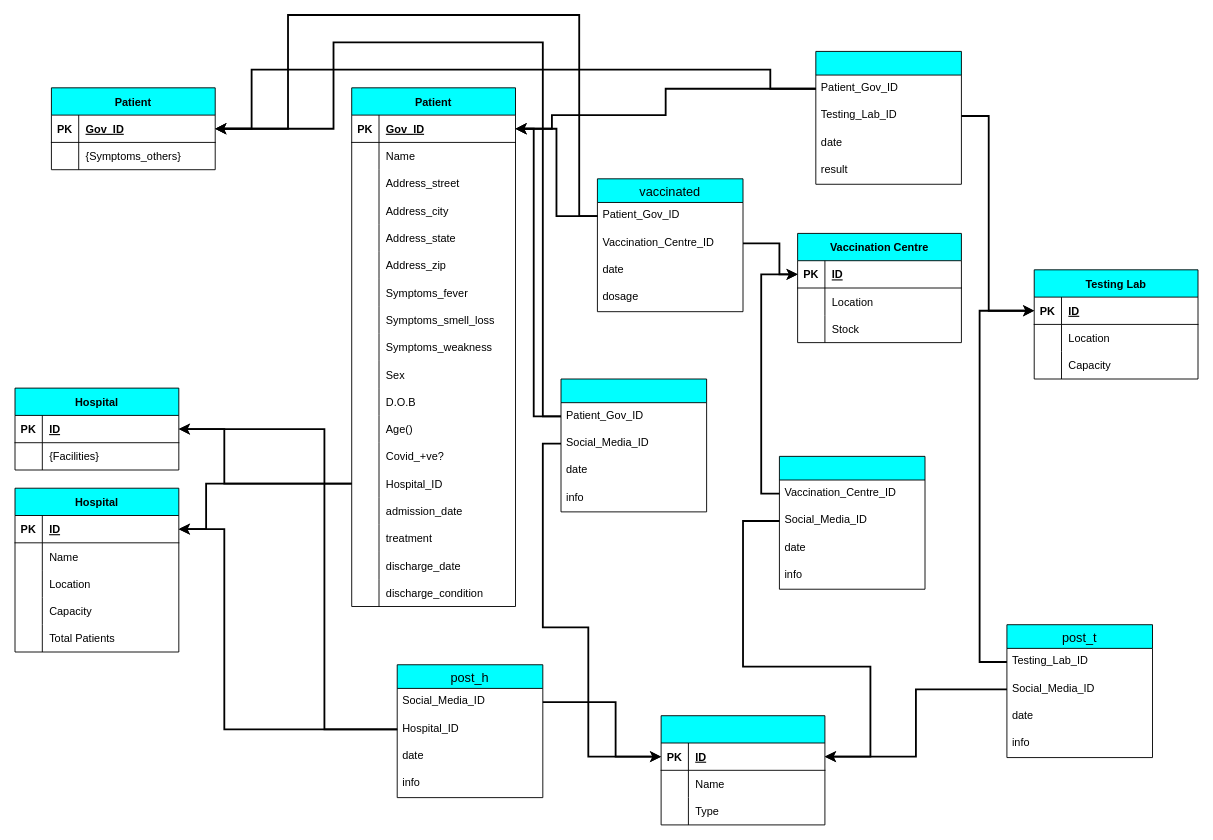
Some shapes in this 1213 by 840 pixel diagram are drawn without their labels. The box of each missing label's shape, as (x1, y1, x2, y2) in pixels:
post_p: (560, 378, 707, 512)
post_v: (779, 455, 925, 589)
Social Media: (660, 715, 825, 825)
tested: (815, 51, 961, 184)
